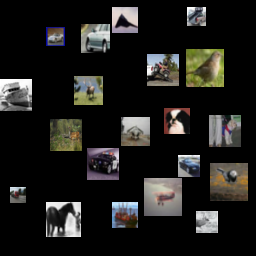airplane: (97, 9, 119, 31)
automobile: (43, 117, 81, 155), (42, 7, 61, 26)
bird: (143, 101, 178, 136), (196, 146, 228, 178), (194, 112, 220, 138)
cat: (143, 1, 181, 39), (83, 41, 102, 60)
deer: (168, 215, 203, 250), (164, 163, 193, 192), (132, 61, 151, 80)
dog: (47, 83, 76, 112), (190, 18, 219, 47)
frog: (99, 139, 131, 171), (74, 192, 106, 224), (16, 105, 42, 131)
ship: (32, 172, 70, 210)
